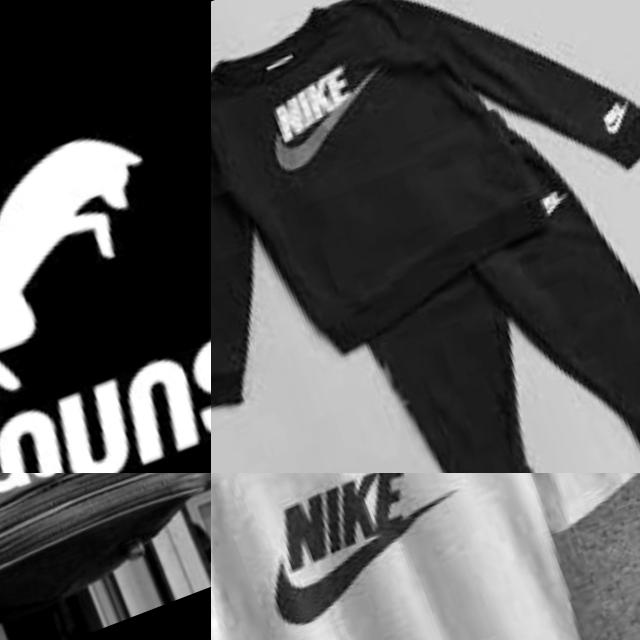ADIDAS_fake: (0, 473, 148, 551)
NIKE_original: (211, 473, 516, 640), (211, 26, 420, 188)
PUMA_fake: (0, 42, 211, 473)
